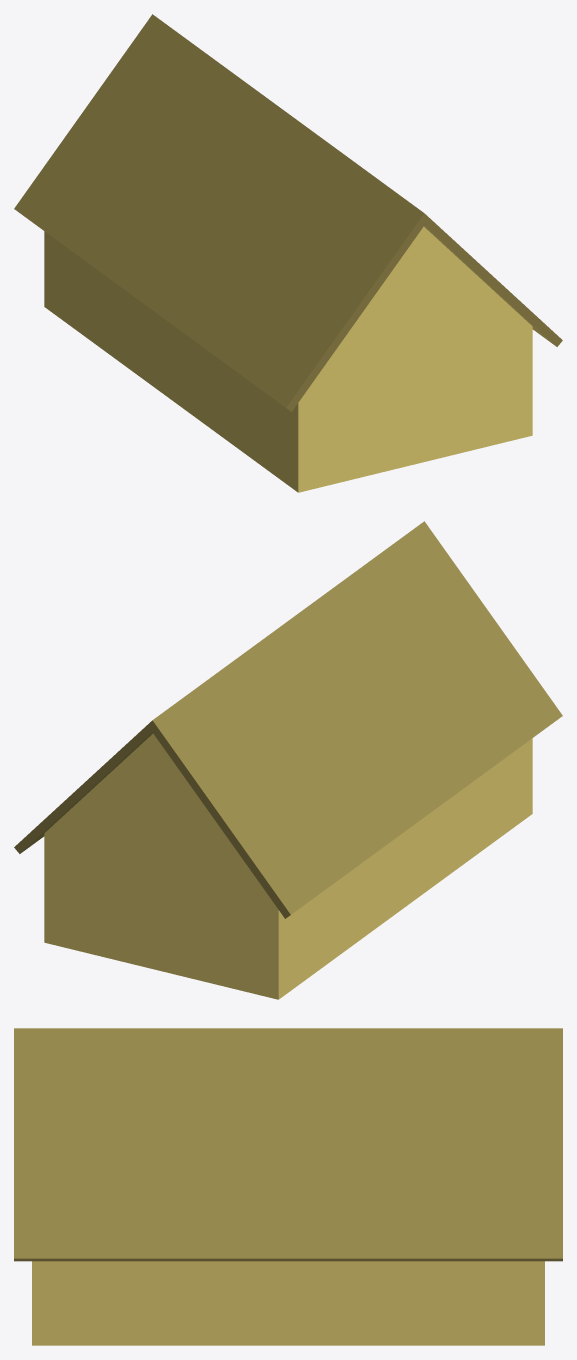
File: result.glb
The picture shows the model from 3 angles, top to bottom: view 1: azimuth 30°, elevation 25°; view 2: azimuth 150°, elevation 25°; view 3: azimuth 270°, elevation 25°; orthographic projection.
Visible parts, largest first — view 1: b8483ff3-fdad-4604-9d86-0e7be6955ed8__undefined (×2), fafe8d72-3840-435b-9fb2-a15e988185b1__undefined; view 2: b8483ff3-fdad-4604-9d86-0e7be6955ed8__undefined (×2), fafe8d72-3840-435b-9fb2-a15e988185b1__undefined; view 3: b8483ff3-fdad-4604-9d86-0e7be6955ed8__undefined, fafe8d72-3840-435b-9fb2-a15e988185b1__undefined.
Boxes of the visible parts, x1=… form: b8483ff3-fdad-4604-9d86-0e7be6955ed8__undefined (×2): x1=14, y1=14, x2=562, y2=411; fafe8d72-3840-435b-9fb2-a15e988185b1__undefined: x1=44, y1=226, x2=532, y2=492; b8483ff3-fdad-4604-9d86-0e7be6955ed8__undefined (×2): x1=14, y1=521, x2=562, y2=918; fafe8d72-3840-435b-9fb2-a15e988185b1__undefined: x1=44, y1=733, x2=532, y2=999; b8483ff3-fdad-4604-9d86-0e7be6955ed8__undefined: x1=14, y1=1028, x2=562, y2=1261; fafe8d72-3840-435b-9fb2-a15e988185b1__undefined: x1=32, y1=1261, x2=544, y2=1345.
Bounding box in the file's own units: 890 × 791 × 1514.
